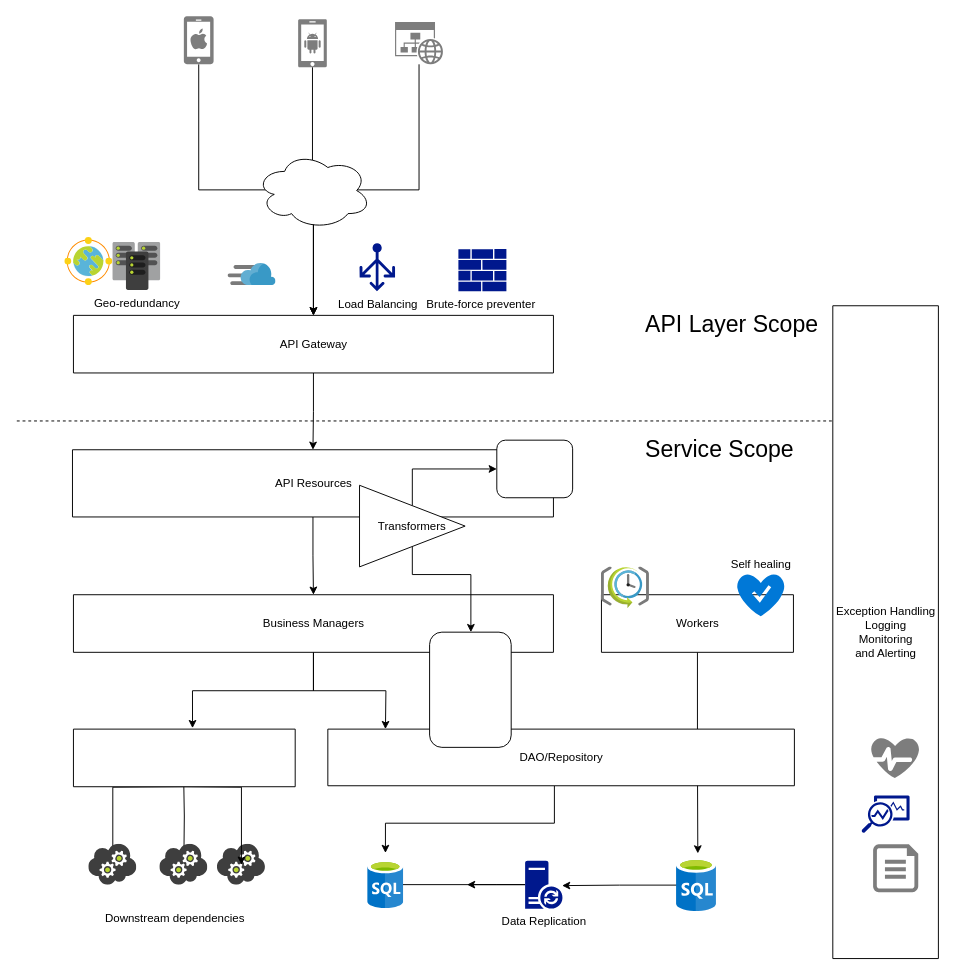
Image size: 955x975. Some labels were removed from this diagram. Each missing label, with the centre of its shape:
"Downstream Clients" belongs at (x=183, y=757).
"DTOs" belongs at (x=534, y=468).
"Http Cache" belongs at (x=252, y=274).
"Model" belongs at (x=470, y=689).
"Read Only Database" belongs at (x=385, y=884).
"Read/Write Database" belongs at (x=696, y=884).
